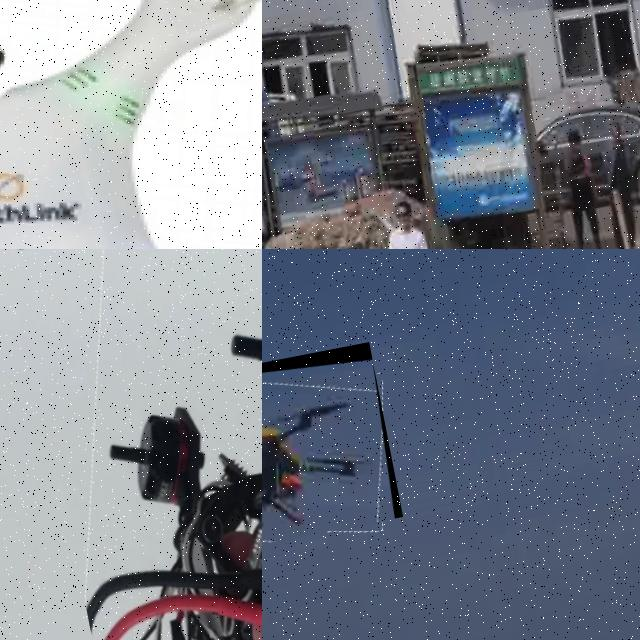drone: (17, 249, 262, 640), (0, 0, 262, 249), (262, 342, 403, 563)
